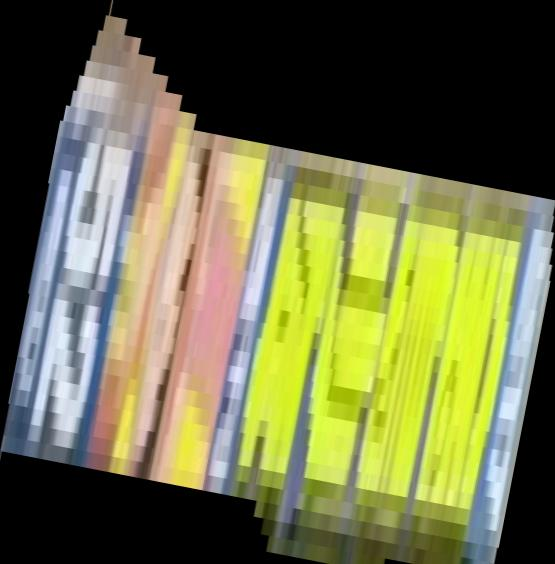flat: (1, 1, 555, 564)
